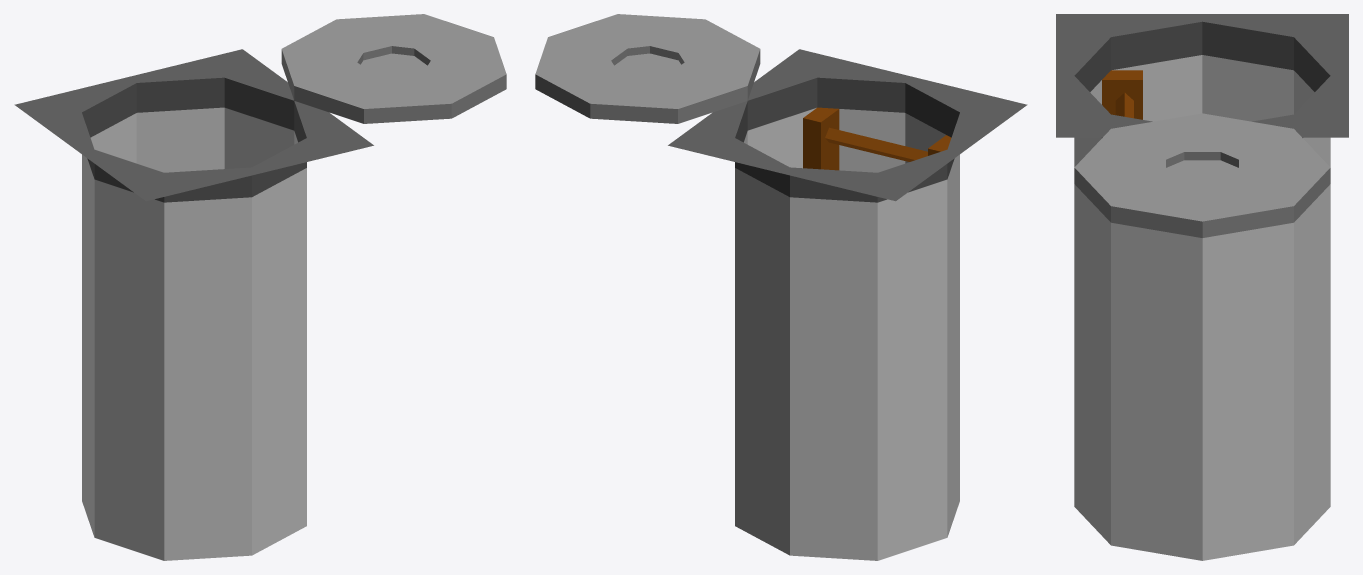
The model's file is manholeopen.obj.
3 views of the same model, side by side, from view 1: azimuth 30°, elevation 25°; view 2: azimuth 150°, elevation 25°; view 3: azimuth 270°, elevation 25° (orthographic). The views are drawn at different scales.
Parts seen in each view (by area): view 1: manholeopen_back; view 2: manholeopen_back; view 3: manholeopen_back.
Part boxes in pixels (bbox=[...]): manholeopen_back: bbox=[14, 14, 506, 560]; manholeopen_back: bbox=[535, 14, 1027, 560]; manholeopen_back: bbox=[1056, 14, 1348, 560].
Size of the model in its own units: 2.32 by 2.16 by 1.28.
